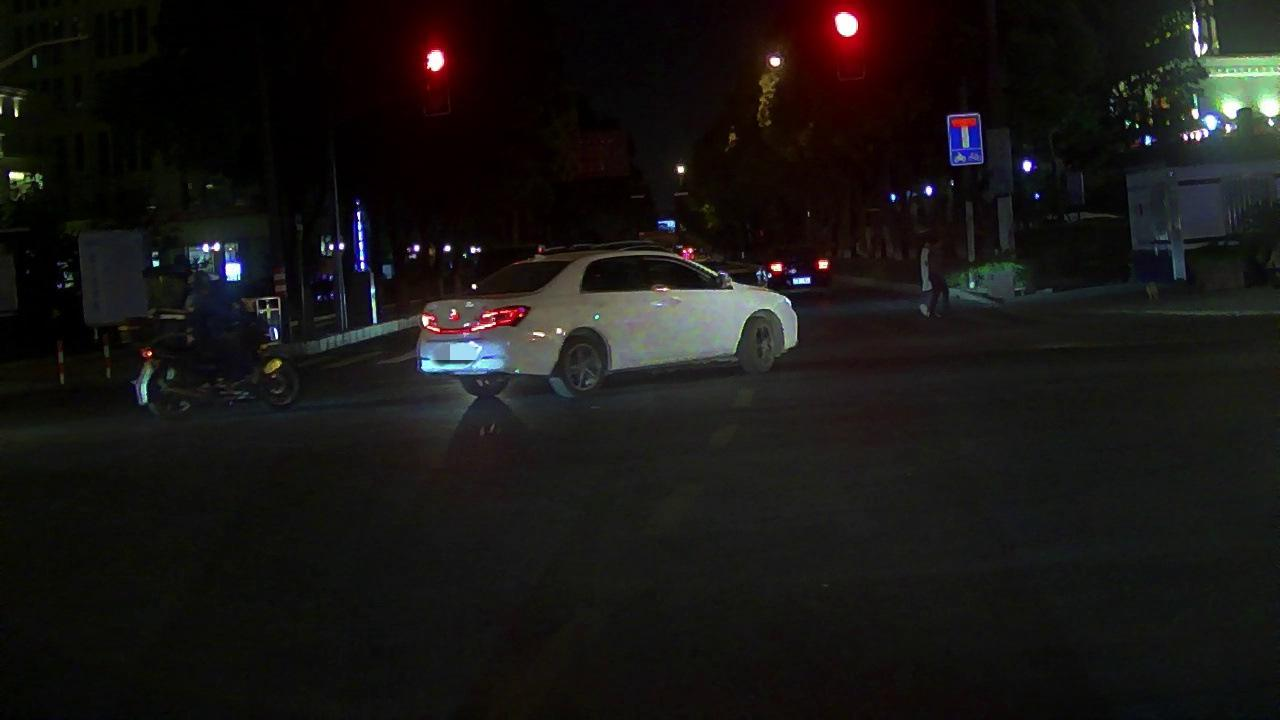traffic_light: (830, 5, 864, 43), (420, 45, 447, 81)
